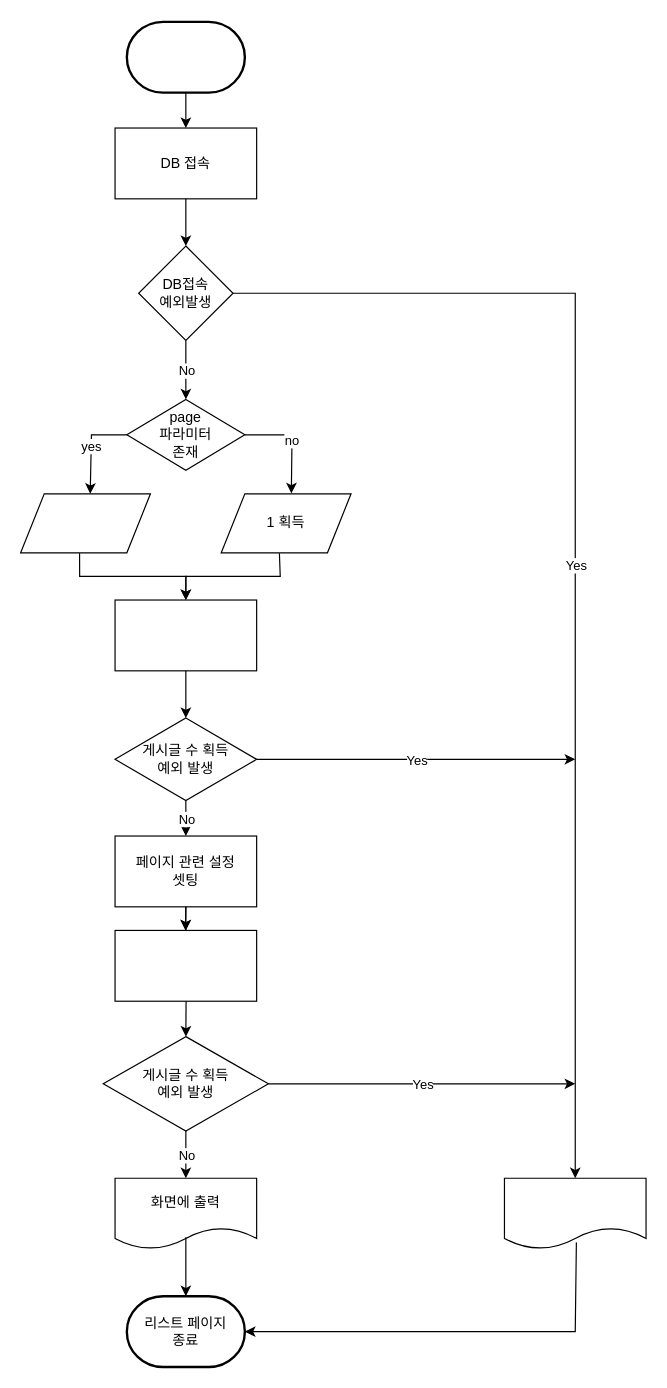
The diagram is 667 pixels wide and 1388 high, and some of its shapes have lost their labels. Each missing label, with the centre of its shape:
"DB에서 게시글 조회" goes at (185,965).
"DB에서 해당 페이지 데이터 획득" goes at (185,635).
"page 획득" goes at (84,523).
"리스트 페이지 시작" goes at (185,56).
"예외 메세지 출력" goes at (574,1213).
